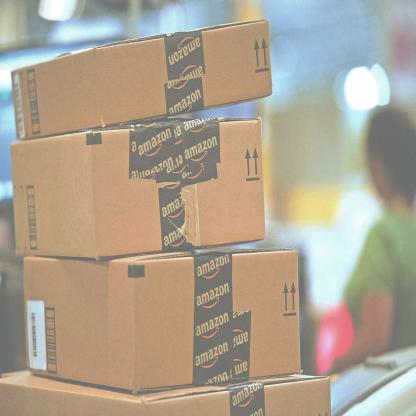package: (25, 246, 299, 392), (13, 108, 268, 264), (10, 16, 276, 143), (0, 369, 330, 416)
